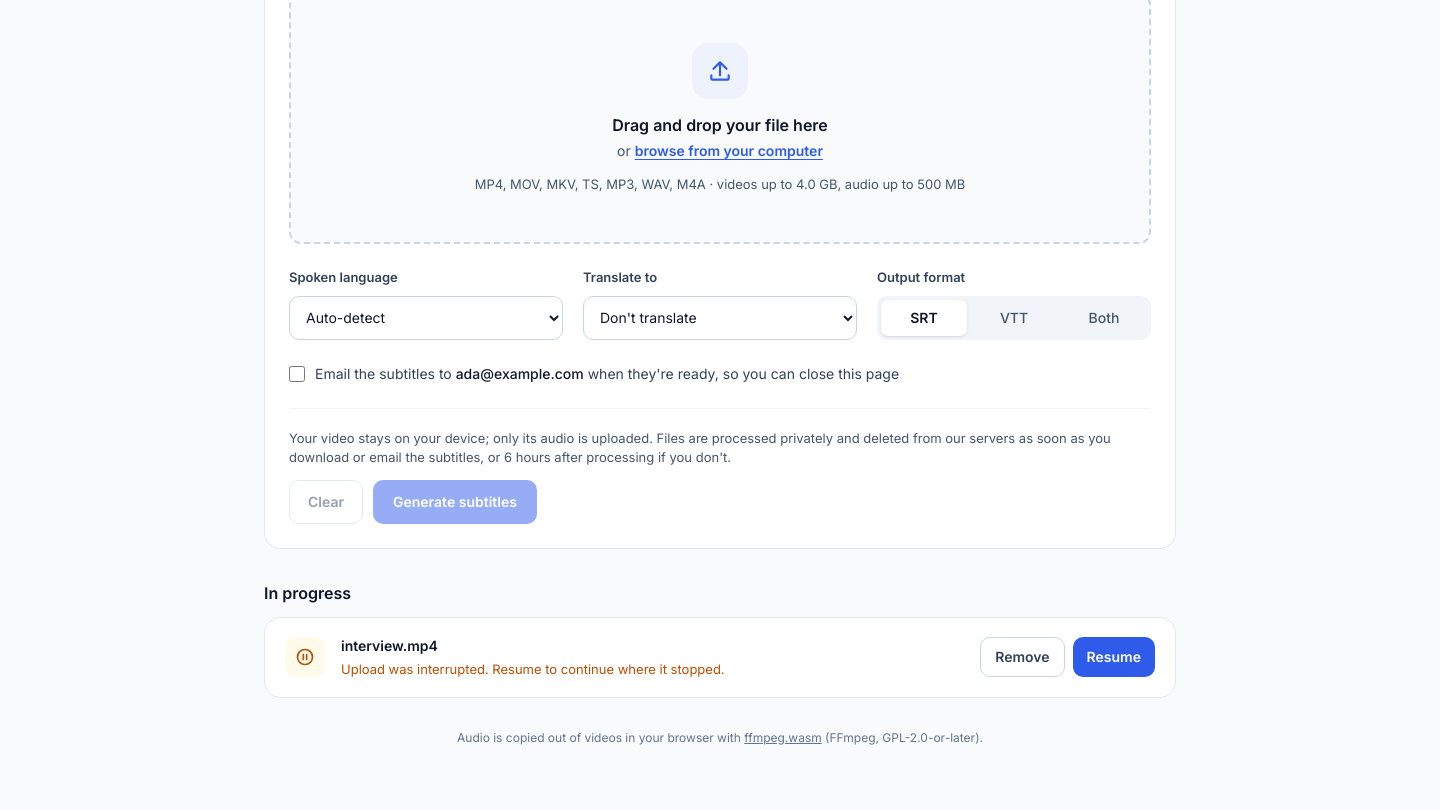
Test: deleting an upload › shows a spinner on the button while the server deletes, then removes the row
(page scrolled)
Click the button "Remove" at (1022, 657), box top-left (980, 637), bottom-right (1065, 677)
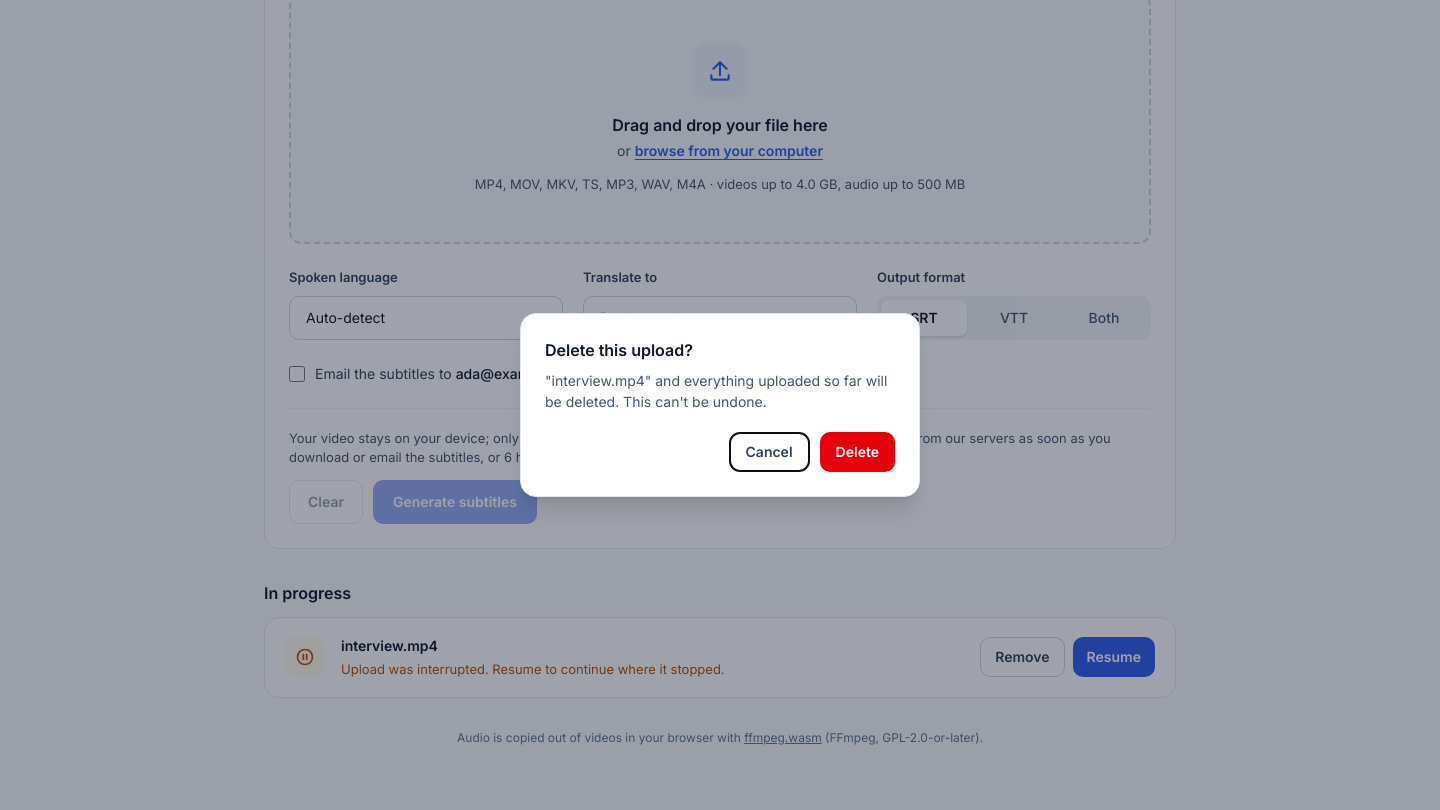
Click the button "Delete" at (857, 452), box top-left (820, 432), bottom-right (895, 472)
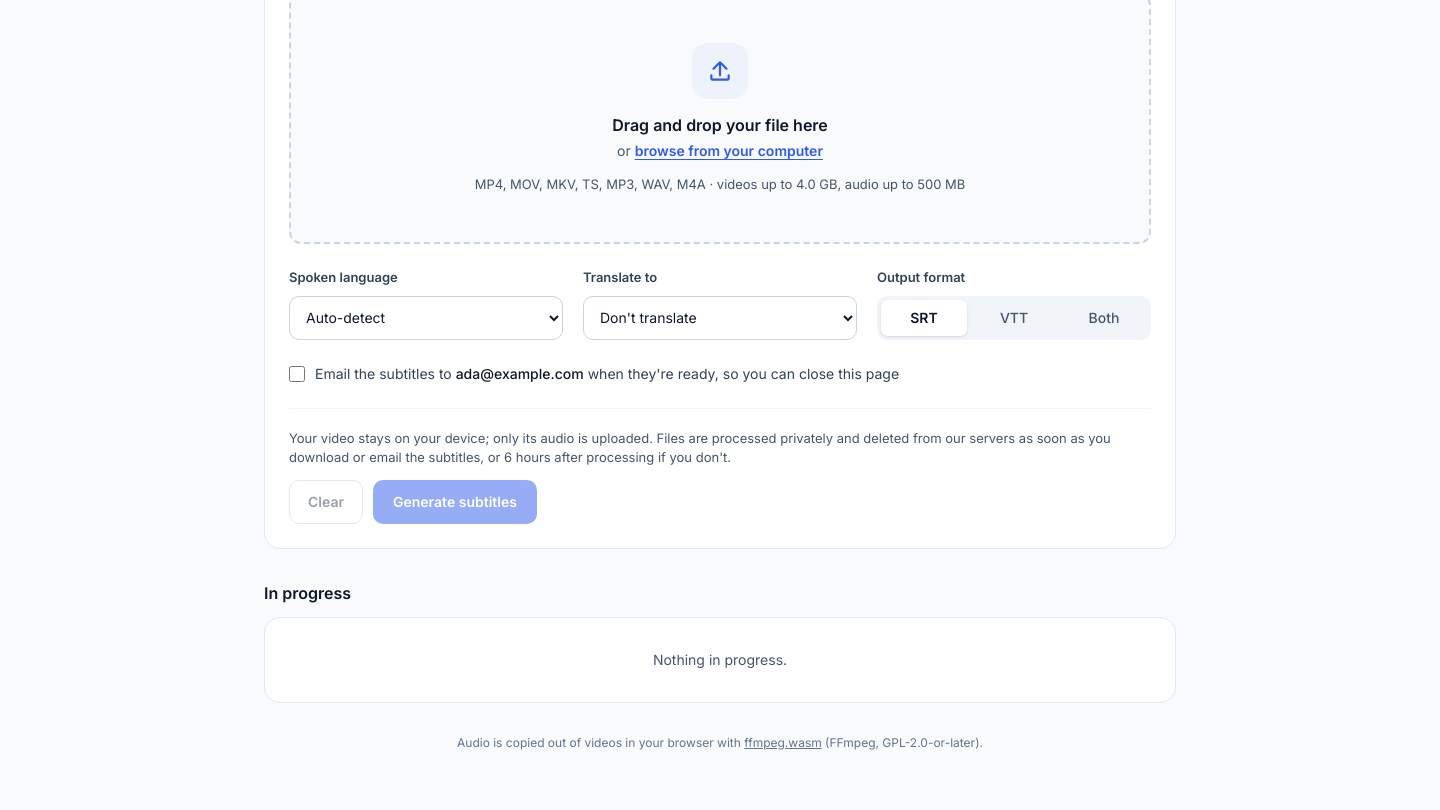
Result: the text "Nothing in progress." is shown at top-left (264, 616), bottom-right (1176, 702)
